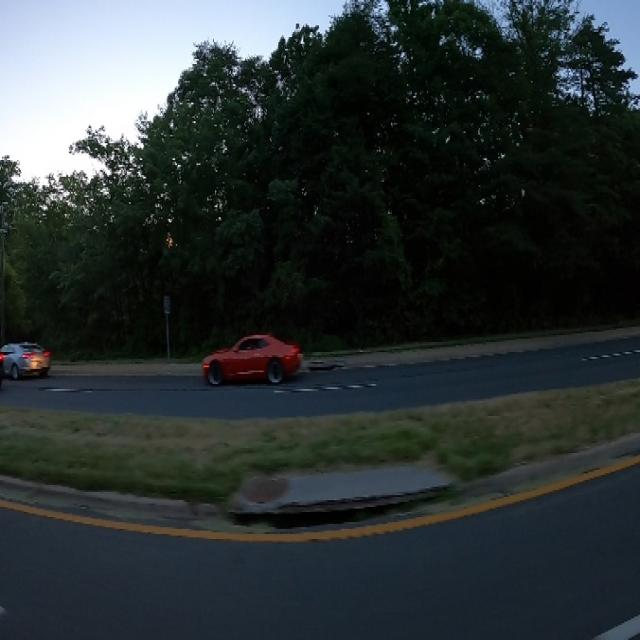Cars: (205, 336, 302, 384), (0, 338, 57, 386)
